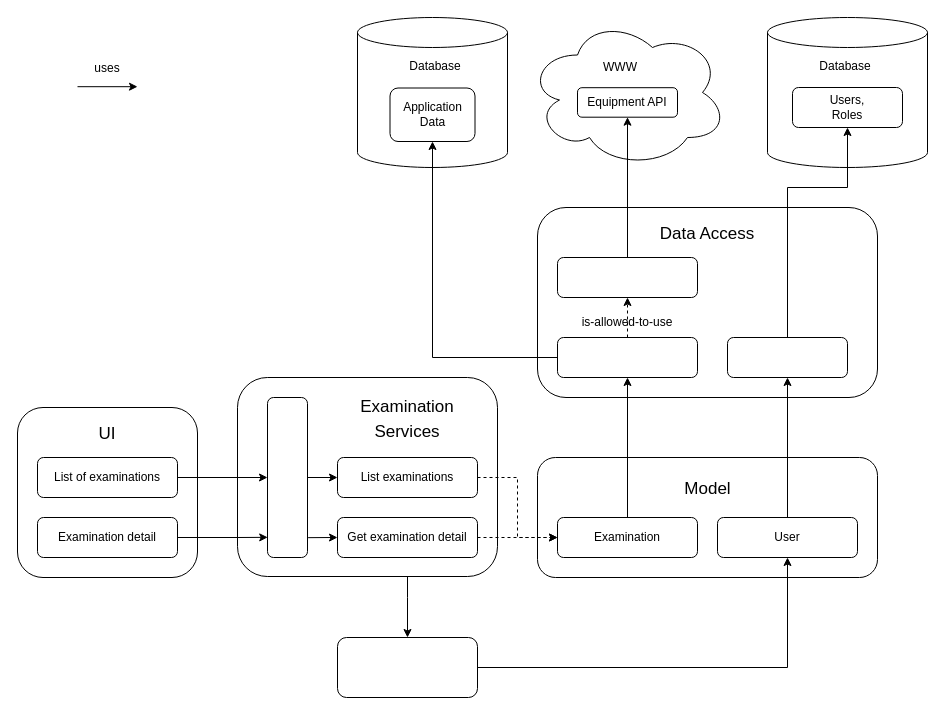
This 945x715 diagram has some shape labels left out. Each missing label, with the box of its shape:
Authorization service: (336, 636, 478, 698)
Equipment gateway: (556, 256, 698, 298)
Examination gateway: (556, 336, 698, 378)
HTTP Connector: (266, 396, 308, 558)
User gateway: (726, 336, 848, 378)
